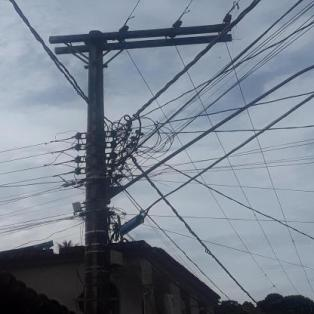Poste: (76, 21, 127, 314)
